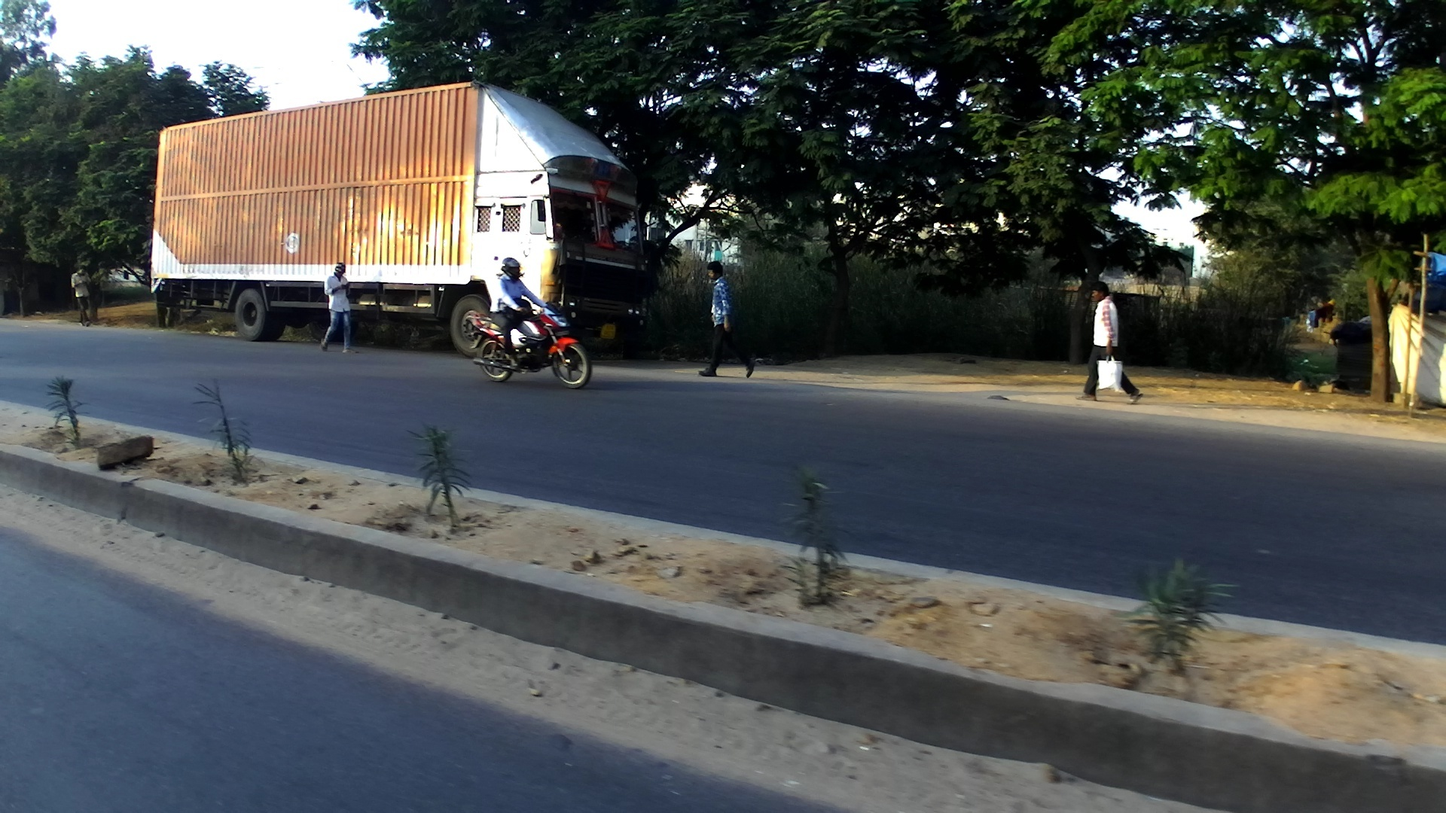motorcycle: (469, 294, 592, 388)
person: (1081, 279, 1144, 408), (696, 257, 755, 379), (316, 260, 356, 354), (70, 263, 93, 327)
rider: (489, 257, 555, 370)
truck: (149, 79, 647, 357)
